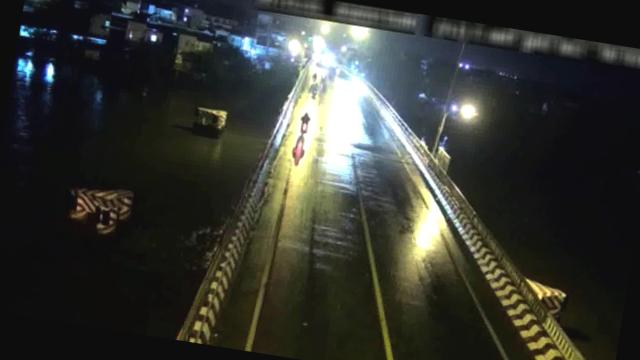Bike: (296, 110, 314, 134)
